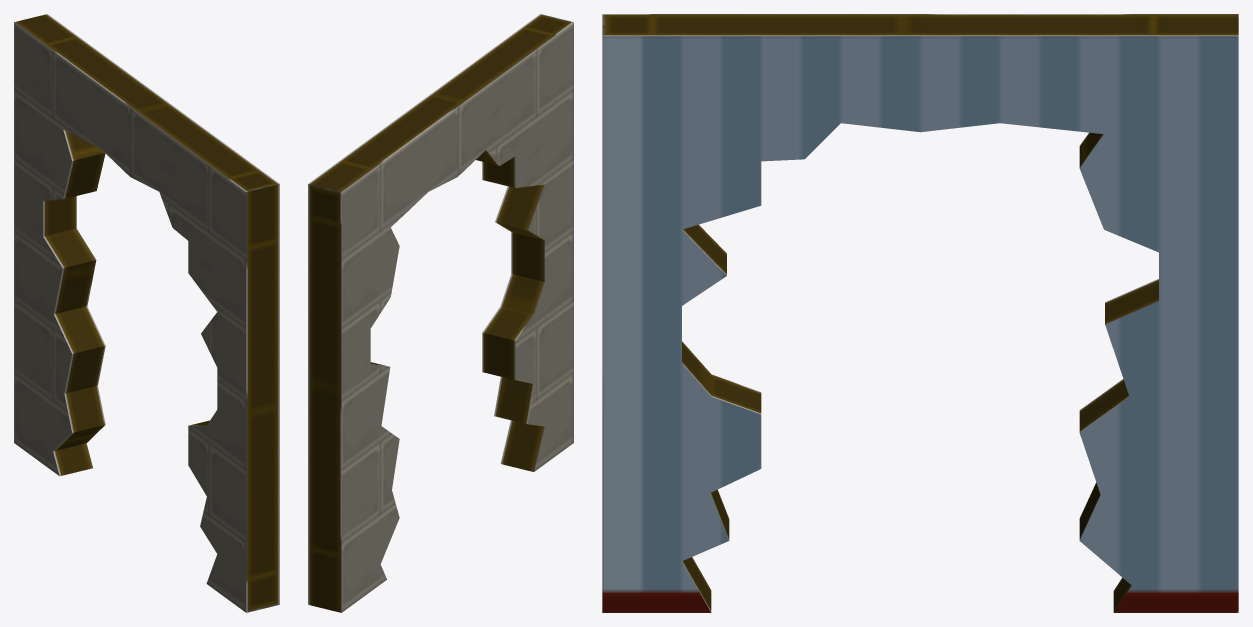
Rendered from Wall_Broken_11.fbx.
3 views of the same model, side by side, from view 1: azimuth 30°, elevation 25°; view 2: azimuth 150°, elevation 25°; view 3: azimuth 270°, elevation 25° (orthographic). The views are drawn at different scales.
Visible parts, largest first — view 1: Wall_Broken_11; view 2: Wall_Broken_11; view 3: Wall_Broken_11.
Boxes of the visible parts, left/top/right/bottom form: Wall_Broken_11: left=14, top=14, right=279, bottom=612; Wall_Broken_11: left=308, top=14, right=573, bottom=612; Wall_Broken_11: left=602, top=14, right=1238, bottom=612.
Size of the model in its own units: 50 by 600 by 600.
